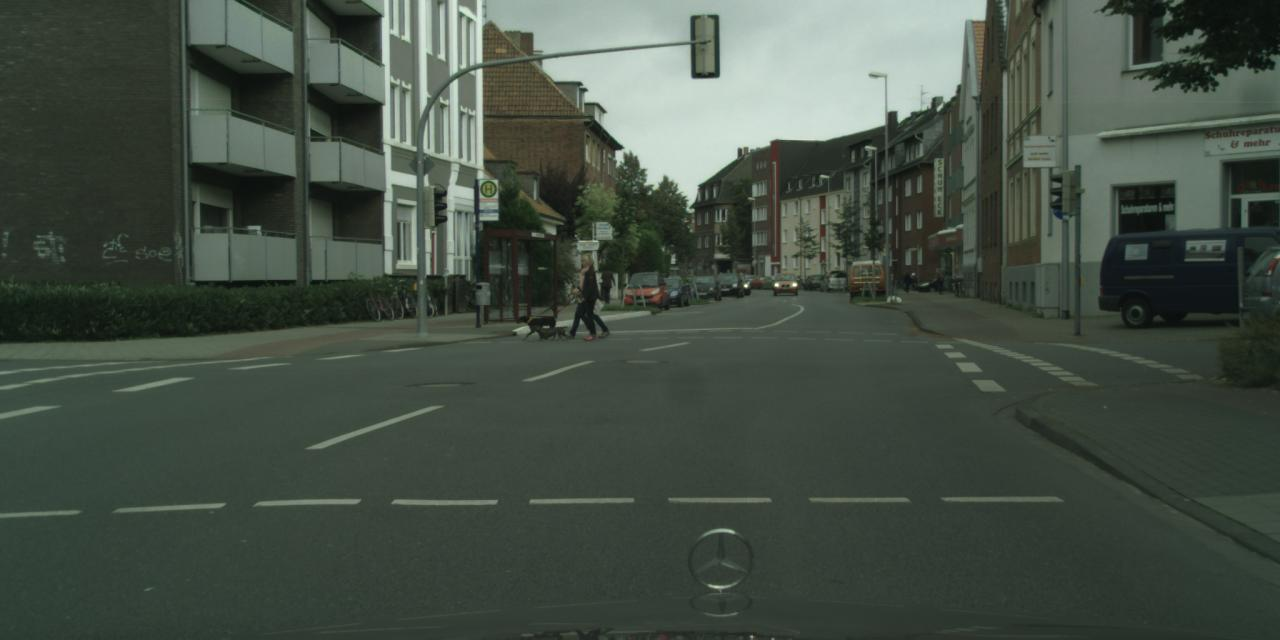ped: (571, 252, 606, 338), (570, 264, 600, 338), (600, 264, 614, 302), (934, 264, 946, 293), (942, 265, 952, 291), (902, 271, 911, 292)
